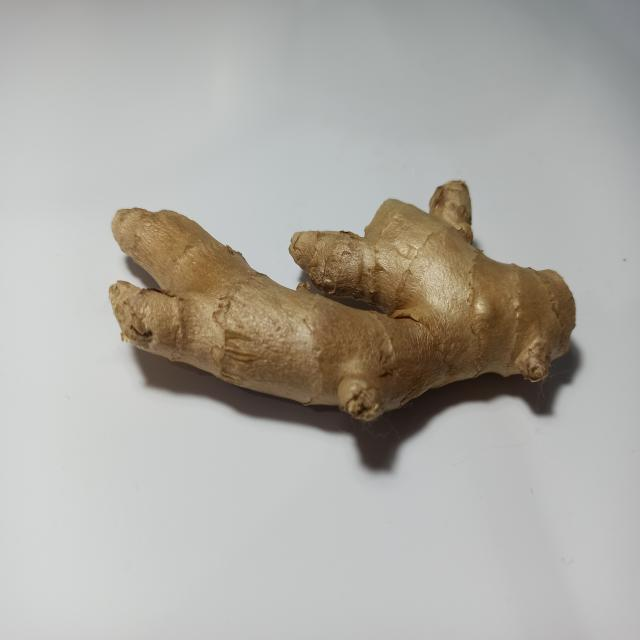ginger: (118, 188, 569, 421)
